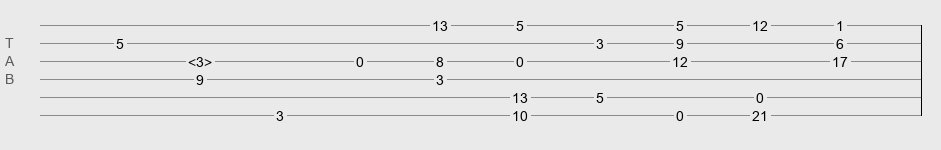0: (356, 54, 364, 64), (516, 54, 524, 64), (676, 108, 684, 118), (756, 90, 764, 100)
1: (836, 18, 844, 28)
10: (512, 108, 528, 118)
12: (672, 54, 688, 64), (752, 18, 768, 28)
13: (432, 18, 448, 28), (512, 90, 528, 100)
17: (832, 54, 848, 64)
21: (752, 108, 768, 118)
3: (276, 108, 284, 118), (436, 72, 444, 82), (596, 36, 604, 46)
5: (116, 36, 124, 46), (516, 18, 524, 28), (596, 90, 604, 100), (676, 18, 684, 28)
6: (836, 36, 844, 46)
8: (436, 54, 444, 64)
9: (196, 72, 204, 82), (676, 36, 684, 46)
harmonic: (188, 54, 212, 64)
